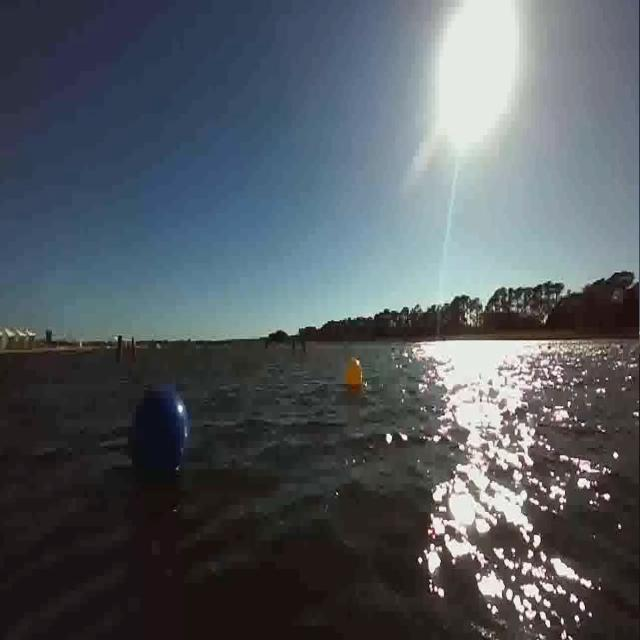blue-buoy: (127, 380, 196, 480)
yellow-buoy: (345, 357, 364, 392)
